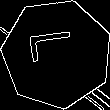L_E: (29, 35, 84, 73)
